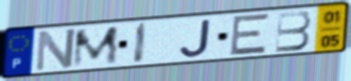B: (273, 9, 313, 54)
E: (228, 12, 272, 58)
I: (132, 21, 150, 65)
J: (179, 18, 214, 59)
M: (70, 24, 120, 69)
N: (33, 26, 79, 73)
